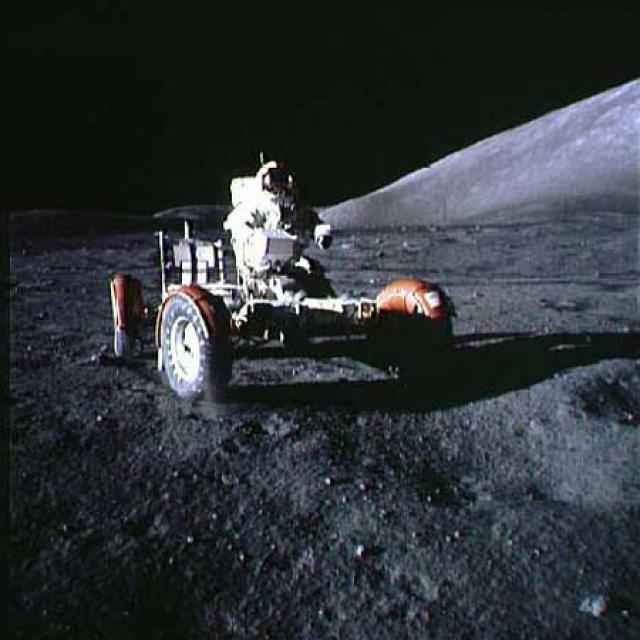artifact: (91, 134, 468, 400)
crater: (564, 356, 638, 435)
